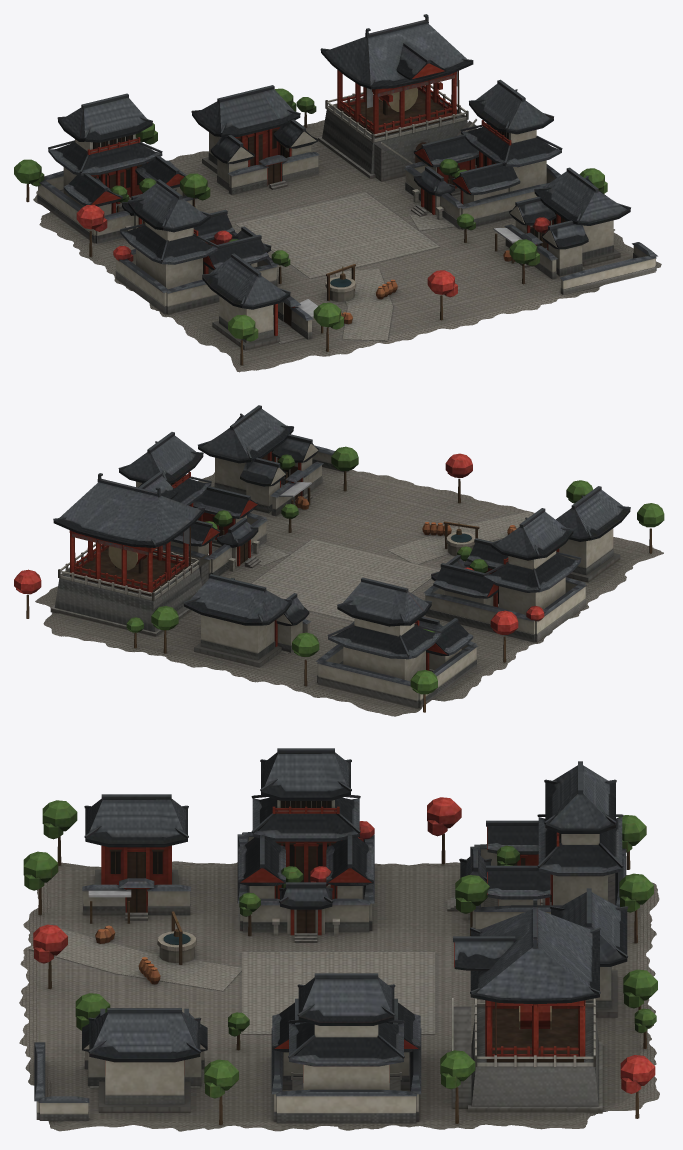
Rendered from kingdoms-town-small-b-sinic.glb.
3 views of the same model, one above another, from view 1: azimuth 30°, elevation 25°; view 2: azimuth 150°, elevation 25°; view 3: azimuth 270°, elevation 25° (orthographic). The views are drawn at different scales.
Visible parts, largest first — view 1: LOD0; view 2: LOD0; view 3: LOD0.
Part boxes in pixels (<box>): LOD0: <box>14,14,661,372</box>; LOD0: <box>14,405,664,716</box>; LOD0: <box>19,748,659,1131</box>.
Size of what is drawn, in the model's own units: 4.04 by 1.13 by 4.06.
3 materials, 3 textured.
